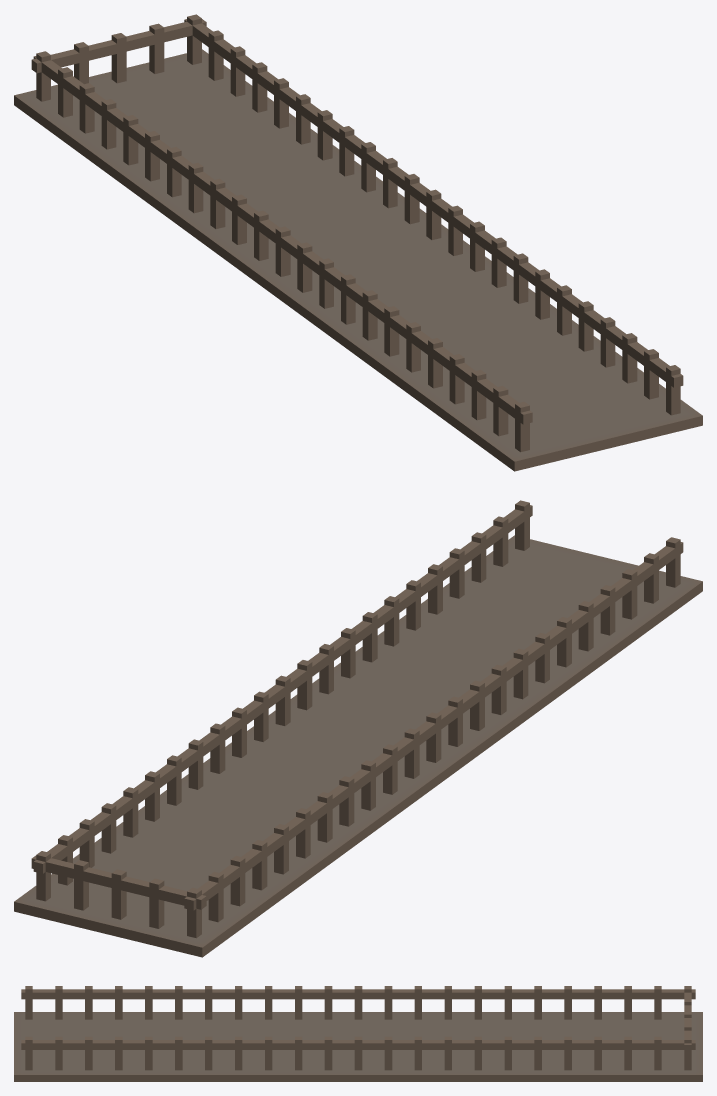
File: pier.obj
The picture shows the model from 3 angles, top to bottom: view 1: azimuth 30°, elevation 25°; view 2: azimuth 150°, elevation 25°; view 3: azimuth 270°, elevation 25°; orthographic projection. The views are drawn at different scales.
Visible parts, largest first — view 1: cuboid; view 2: cuboid; view 3: cuboid.
Boxes of the visible parts, box(x1,y1,x2,y2) form: cuboid: box(14, 14, 702, 471); cuboid: box(14, 500, 702, 957); cuboid: box(14, 986, 702, 1081).
Size of the model in its own units: 0.625 by 0.1875 by 2.88.
1 material, 1 textured.
